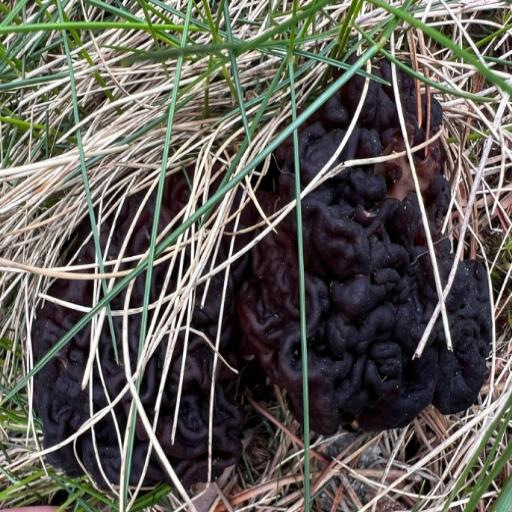False Morel: (41, 99, 488, 499)
